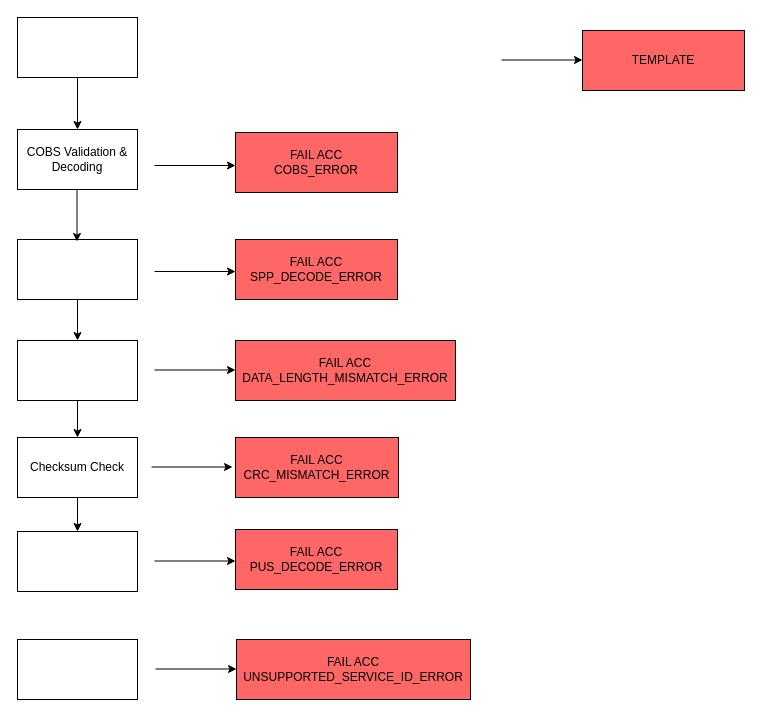
Image size: 762x717. Some labels were removed from this diagram. Each missing label, with the centre of its shape:
Correct Length of received message: the point at 77,370
Incoming UART message: the point at 77,47
PUS Decode: the point at 77,561
PUS Service Supported: the point at 77,669
SPP Header Decoding: the point at 77,269
